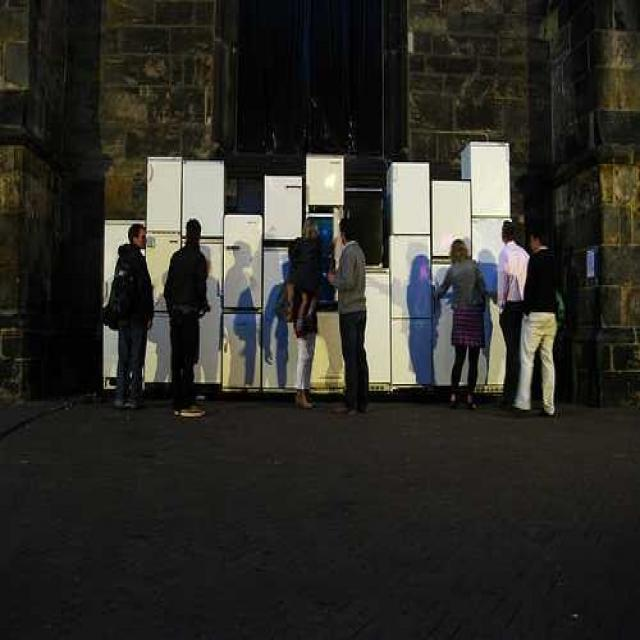refrigerator: (391, 235, 432, 390), (103, 218, 141, 382), (182, 242, 222, 386), (263, 250, 302, 395), (431, 261, 474, 388), (348, 269, 391, 389), (224, 214, 262, 308), (183, 159, 225, 241), (480, 294, 514, 393), (471, 215, 513, 294), (472, 142, 512, 218), (224, 313, 263, 390), (432, 184, 472, 258), (146, 312, 185, 385), (146, 232, 182, 311), (392, 161, 430, 233), (146, 152, 179, 232), (266, 175, 302, 242), (306, 154, 344, 217)
